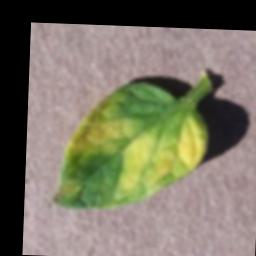Leaf_Mold: (56, 79, 210, 213)
